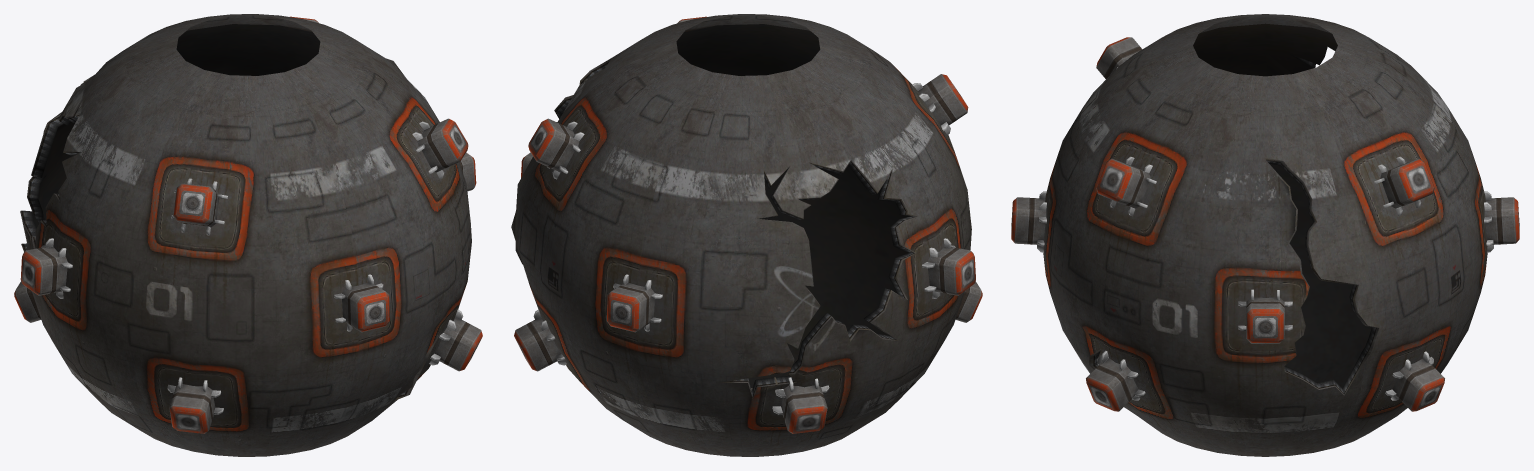
Rendered from 04_02_reactor_cover.dae.
3 renders of one model, left to right at view 1: azimuth 30°, elevation 25°; view 2: azimuth 150°, elevation 25°; view 3: azimuth 270°, elevation 25°, orthographic.
Visible parts, largest first — view 1: pSphere5, polySurface143, pSphere2; view 2: pSphere5, pSphere2, polySurface143; view 3: pSphere5, polySurface143, pSphere2.
Boxes of the visible parts, x1,y1,x2,y2 form: pSphere5: (20, 14, 471, 456); polySurface143: (14, 16, 482, 433); pSphere2: (31, 24, 320, 227); pSphere5: (511, 14, 971, 456); pSphere2: (676, 24, 910, 387); polySurface143: (514, 16, 982, 433); pSphere5: (1043, 14, 1487, 456); polySurface143: (1011, 37, 1519, 411); pSphere2: (1193, 23, 1371, 387).
Size of the model in its own units: 5.19 by 4.27 by 5.19.
